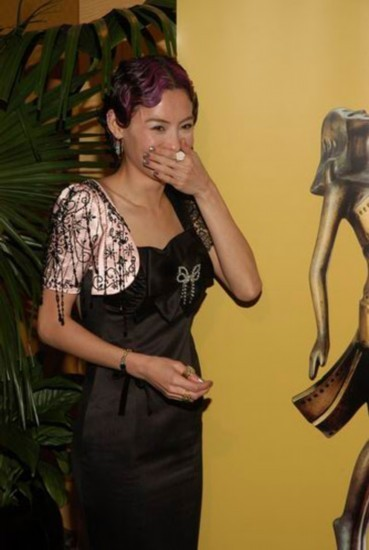face: (128, 91, 193, 184)
